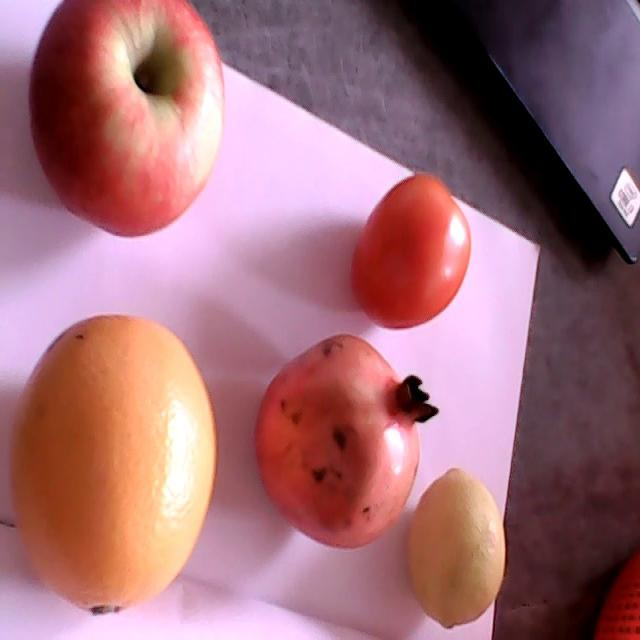apple: (30, 0, 226, 237)
lemon: (408, 468, 507, 628)
orange: (8, 313, 218, 616)
pomegranate: (254, 334, 439, 548)
tomato: (352, 174, 471, 332)
